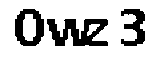0: (9, 5, 45, 51)
3: (119, 5, 147, 49)
w: (45, 16, 88, 50)
z: (89, 17, 110, 49)
